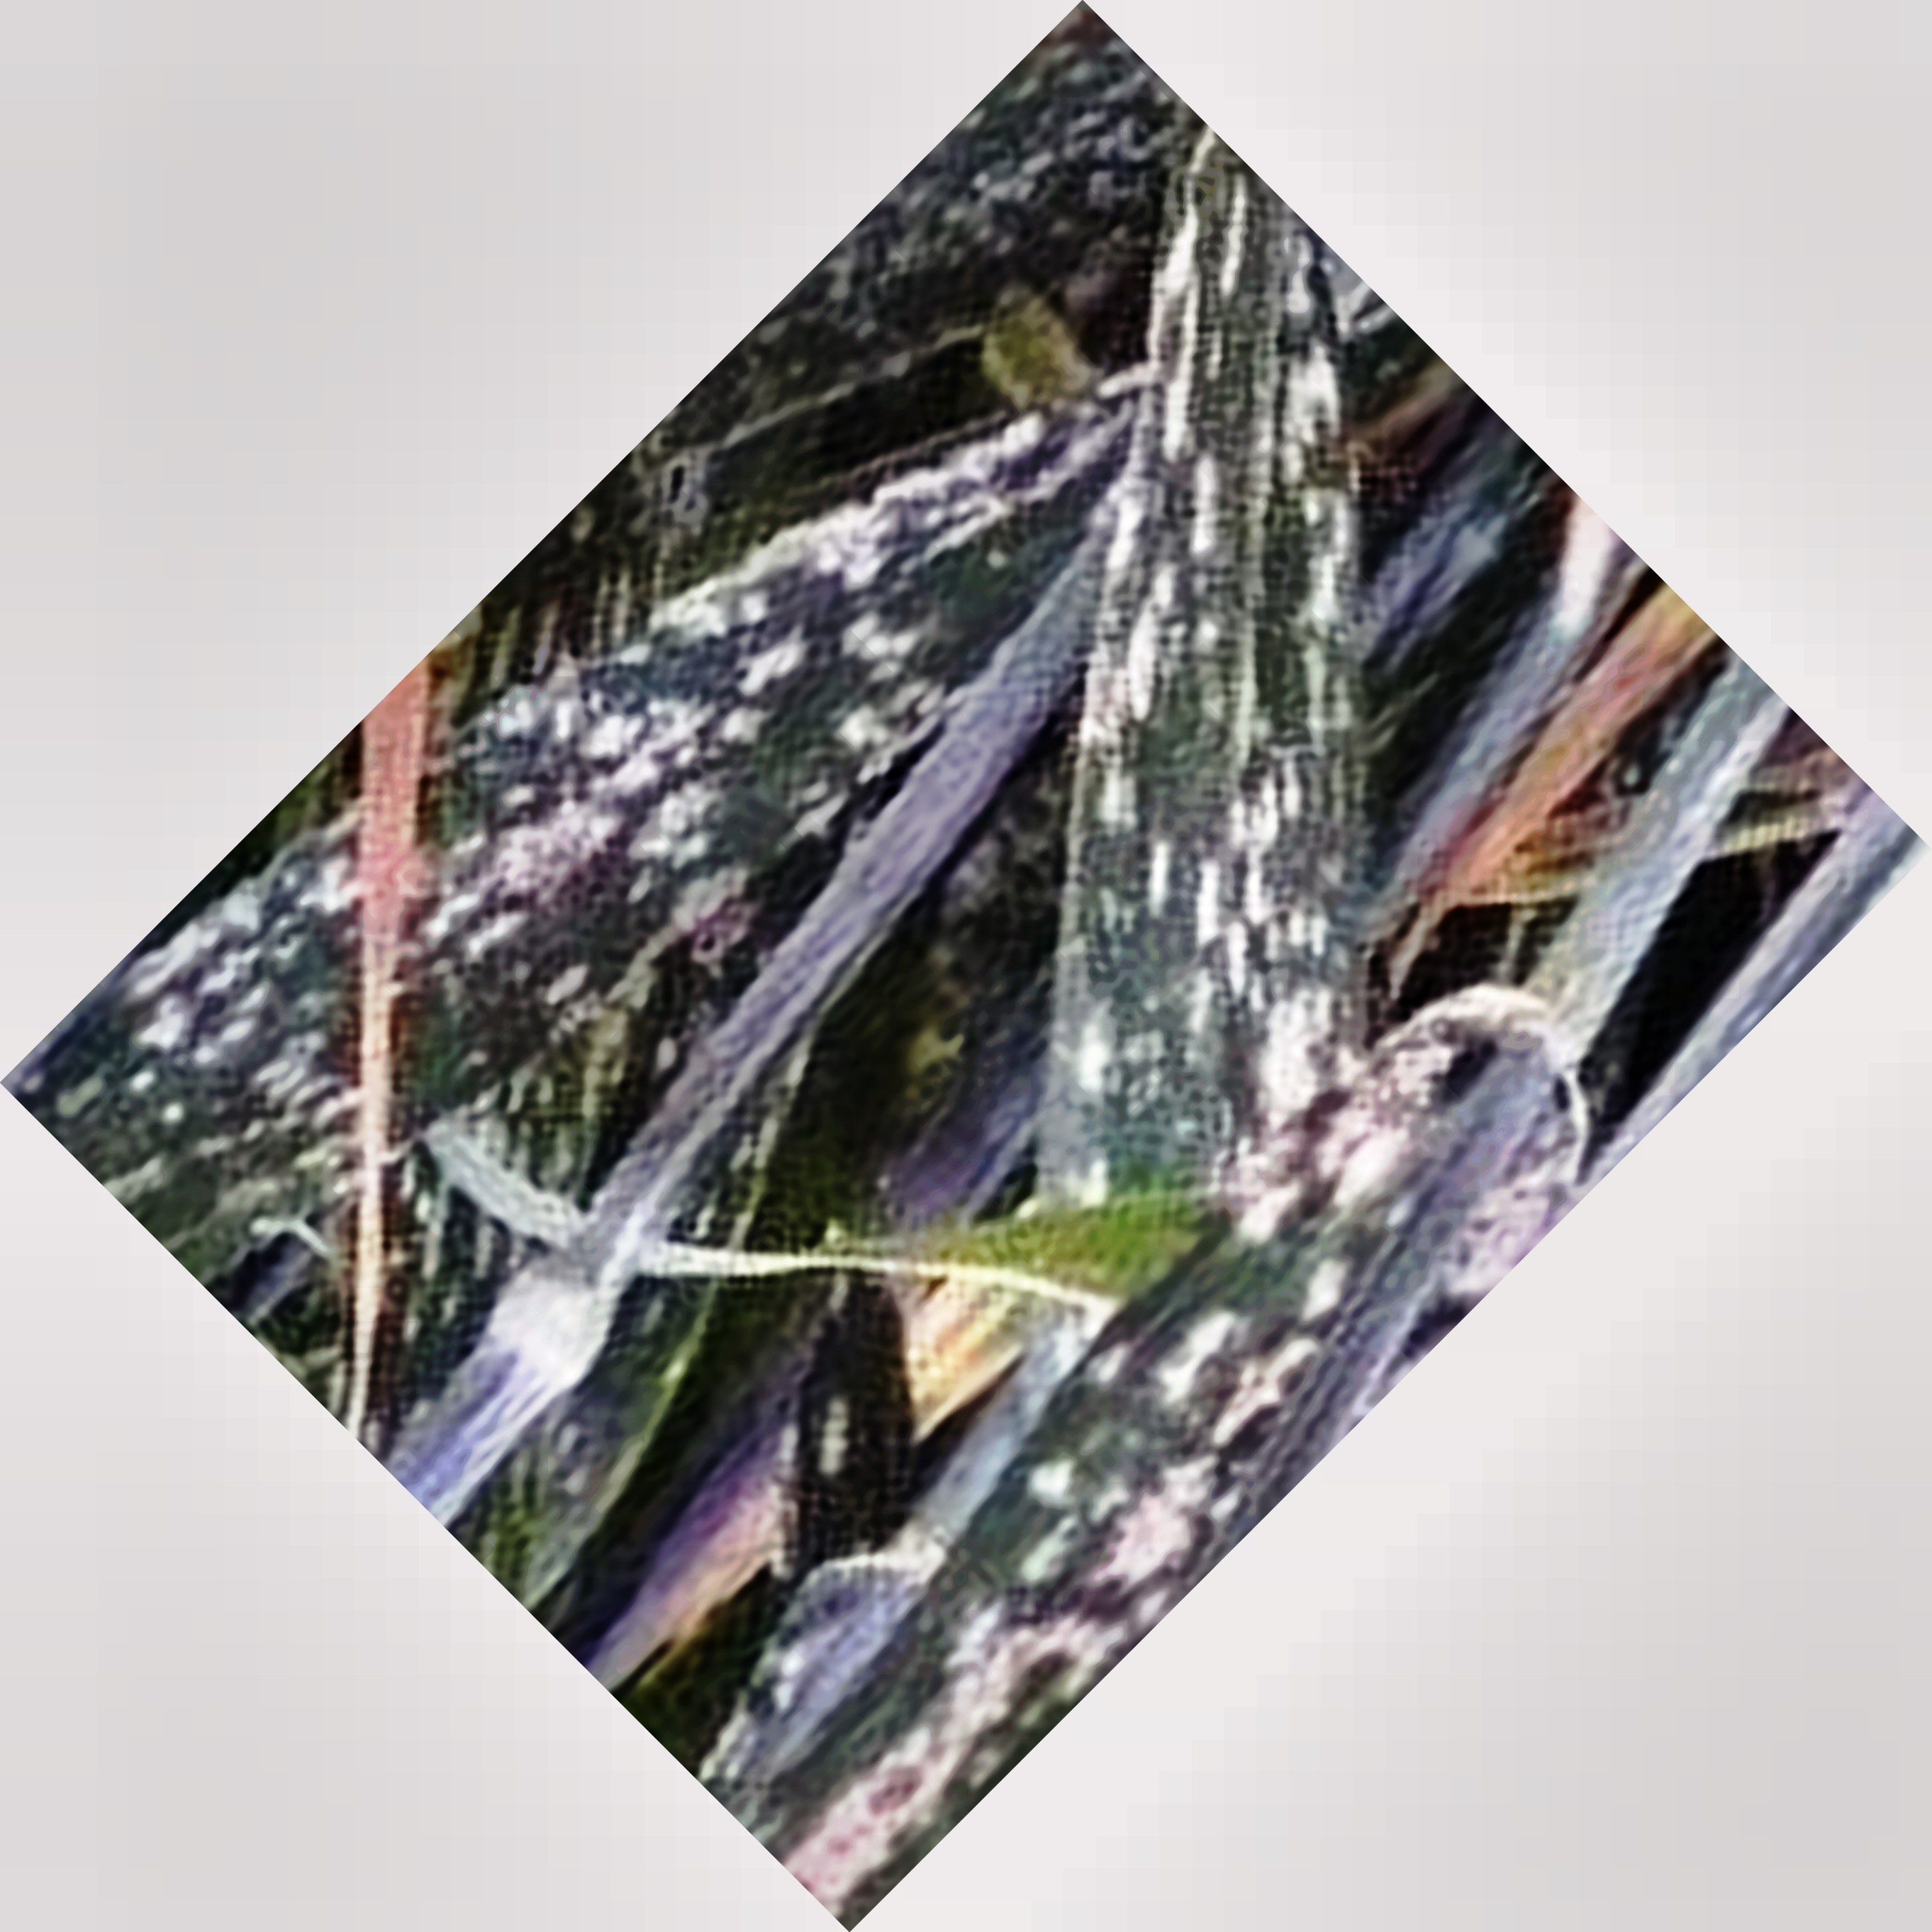Powdery Mildew: (129, 414, 1044, 1136)
